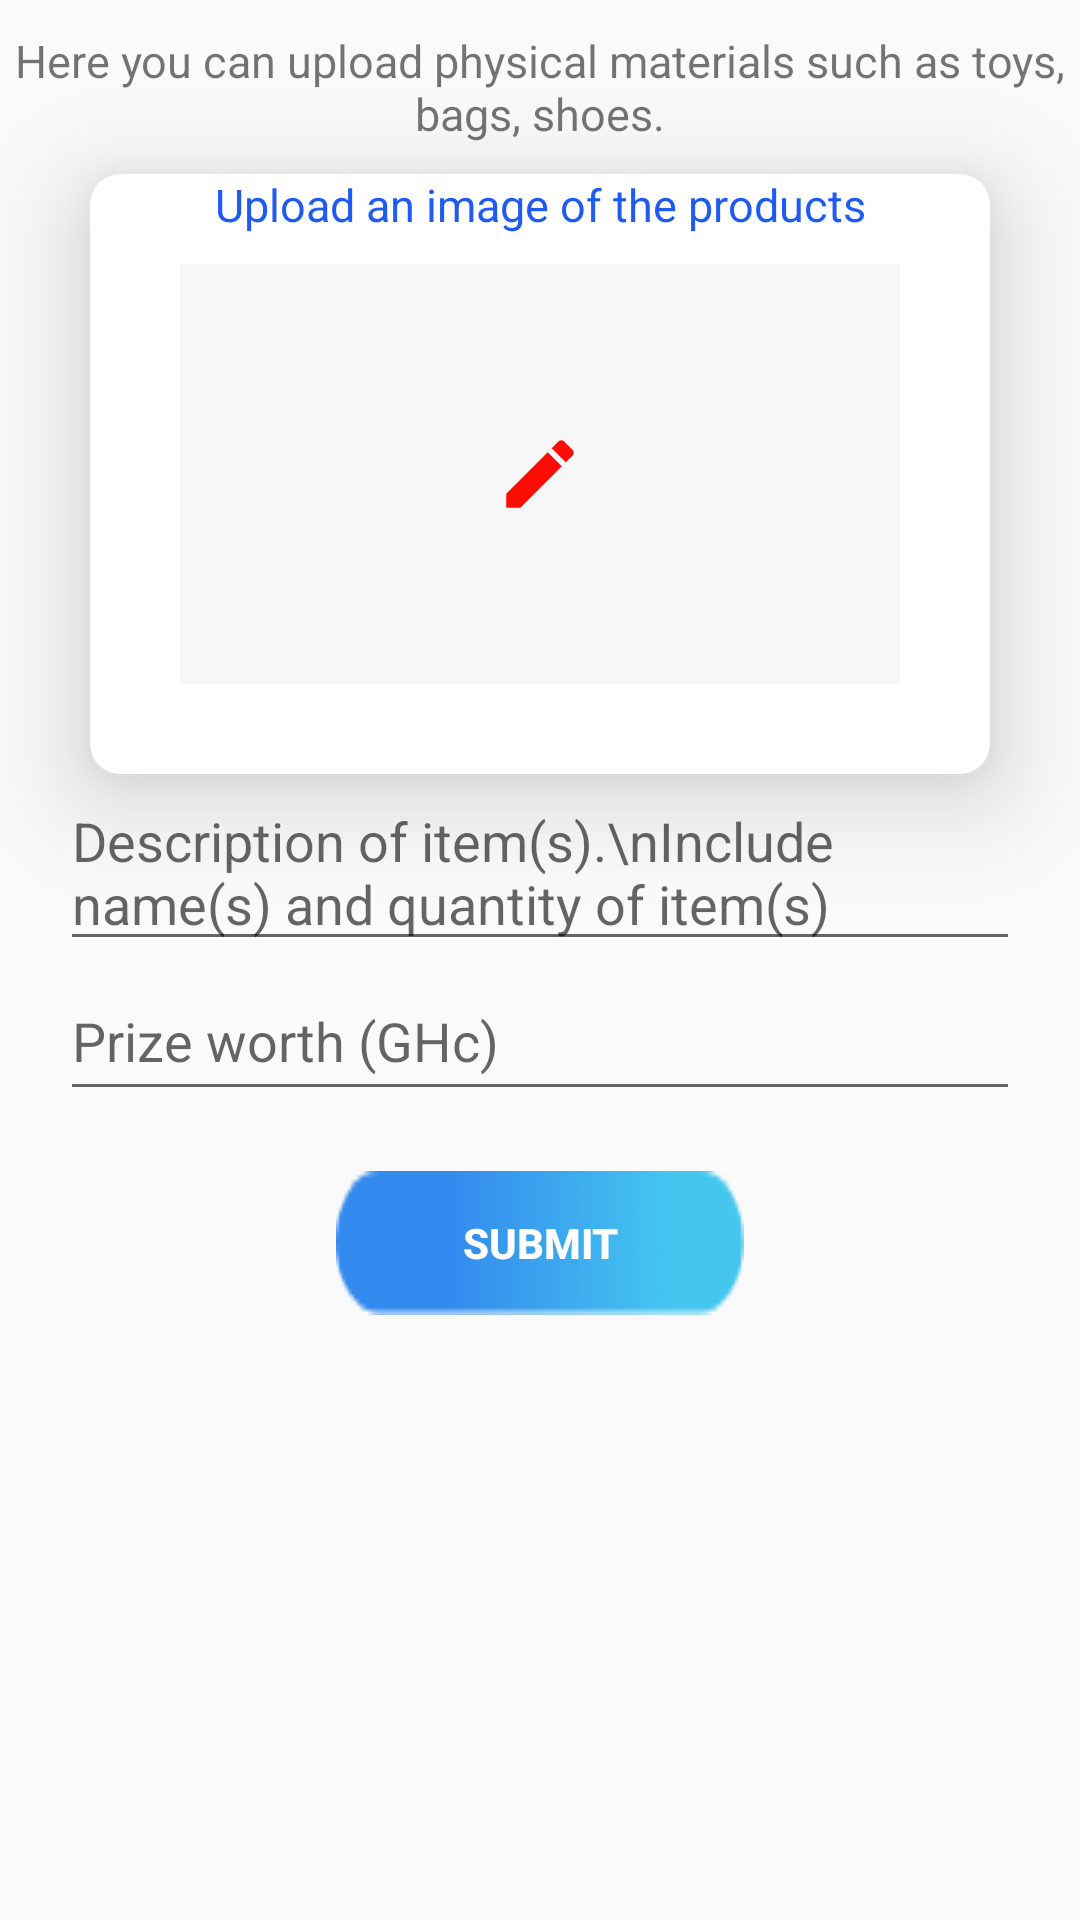

Named icons in this screenshot (1080w x 1920h) and their centers, (x=x, y=y):
editred: (x=540, y=474)
